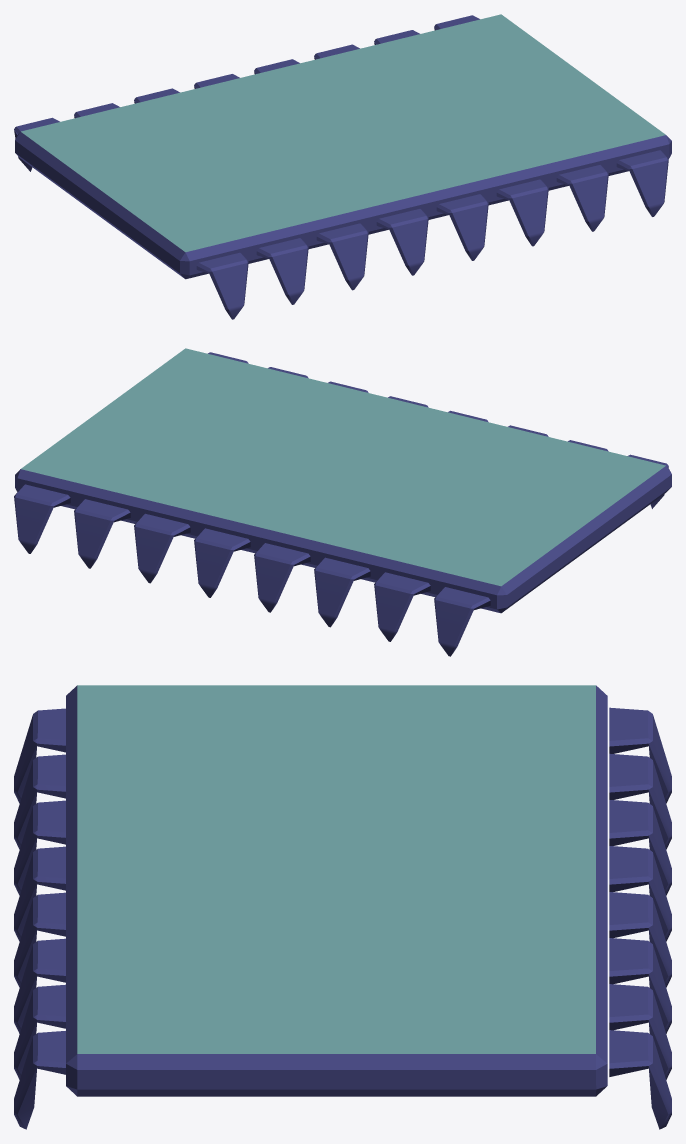
The model's file is chip4units.fbx.
3 views of the same model, one above another, from view 1: azimuth 30°, elevation 25°; view 2: azimuth 150°, elevation 25°; view 3: azimuth 270°, elevation 25° (orthographic). The views are drawn at different scales.
Parts seen in each view (by area): view 1: polySurface11, polySurface14, polySurface15, polySurface22, polySurface24, polySurface18, polySurface25, polySurface16, polySurface17; view 2: polySurface11, polySurface29, polySurface33, polySurface32, polySurface26, polySurface30, polySurface31, polySurface27, polySurface28; view 3: polySurface11, polySurface33, polySurface31, polySurface26, polySurface32, polySurface29, polySurface30, polySurface27, polySurface28, polySurface25, polySurface18, polySurface24 (+5 smaller).
Part boxes in pixels (bbox=[...]): polySurface11: bbox=[15, 14, 671, 279]; polySurface14: bbox=[316, 223, 368, 290]; polySurface15: bbox=[376, 209, 428, 275]; polySurface22: bbox=[496, 179, 548, 246]; polySurface24: bbox=[256, 238, 308, 304]; polySurface18: bbox=[196, 252, 248, 319]; polySurface25: bbox=[616, 150, 668, 216]; polySurface16: bbox=[436, 194, 488, 260]; polySurface17: bbox=[556, 165, 608, 231]; polySurface11: bbox=[15, 348, 671, 613]; polySurface29: bbox=[194, 528, 250, 597]; polySurface33: bbox=[14, 484, 70, 553]; polySurface32: bbox=[374, 572, 430, 641]; polySurface26: bbox=[434, 587, 490, 656]; polySurface30: bbox=[134, 513, 190, 583]; polySurface31: bbox=[74, 499, 130, 568]; polySurface27: bbox=[314, 557, 370, 627]; polySurface28: bbox=[254, 543, 310, 612]; polySurface11: bbox=[66, 685, 607, 1096]; polySurface33: bbox=[609, 1030, 671, 1129]; polySurface31: bbox=[609, 984, 671, 1079]; polySurface26: bbox=[609, 707, 671, 803]; polySurface32: bbox=[609, 753, 671, 849]; polySurface29: bbox=[609, 892, 671, 987]; polySurface30: bbox=[609, 938, 671, 1033]; polySurface27: bbox=[609, 800, 671, 895]; polySurface28: bbox=[609, 846, 671, 941]; polySurface25: bbox=[14, 1031, 65, 1129]; polySurface18: bbox=[14, 708, 65, 803]; polySurface24: bbox=[14, 754, 65, 849].
Size of the model in its own units: 402 by 49.07 by 296.
